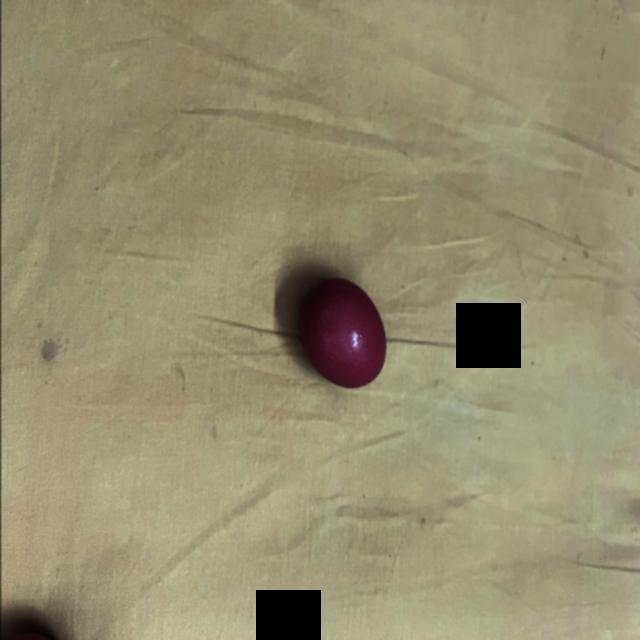egg: (293, 268, 392, 397)
